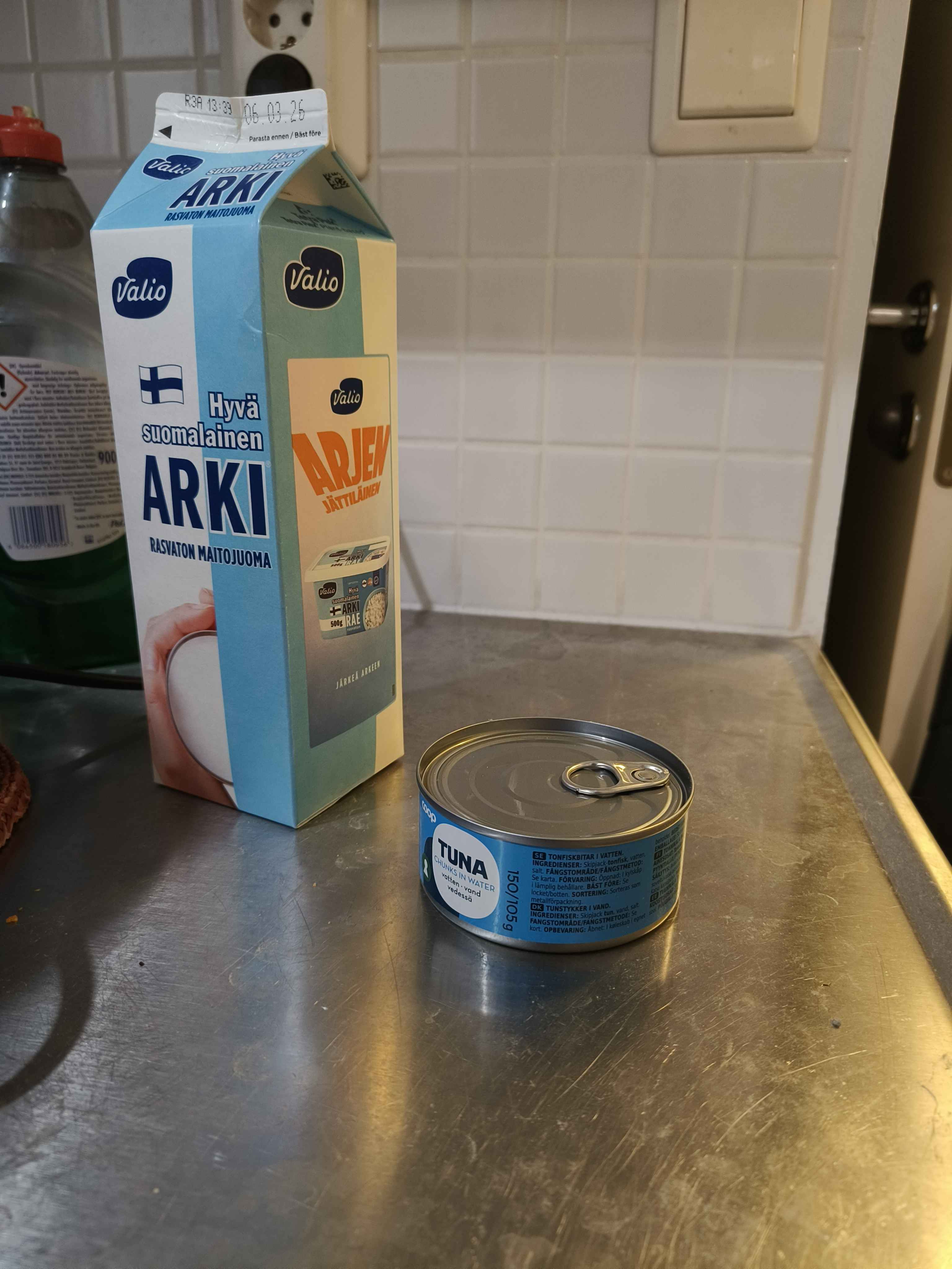Dryckeskartong: (89, 90, 406, 829)
Konservburk: (416, 716, 696, 956)
